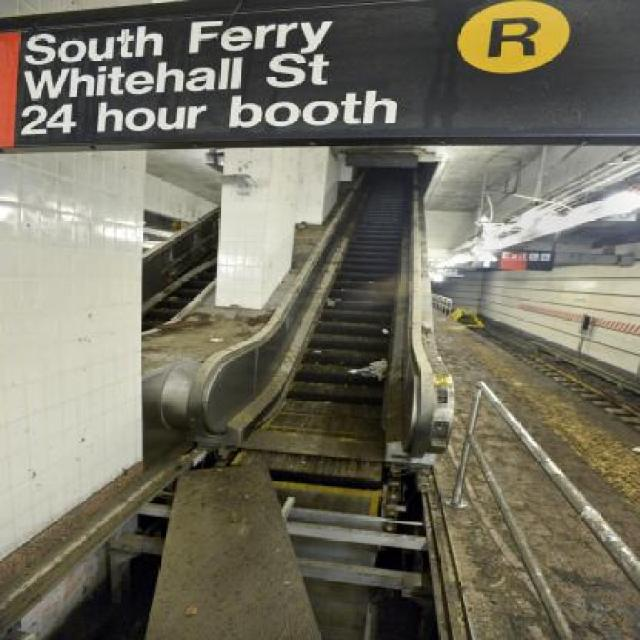stair: (258, 176, 408, 442), (142, 263, 218, 334)
